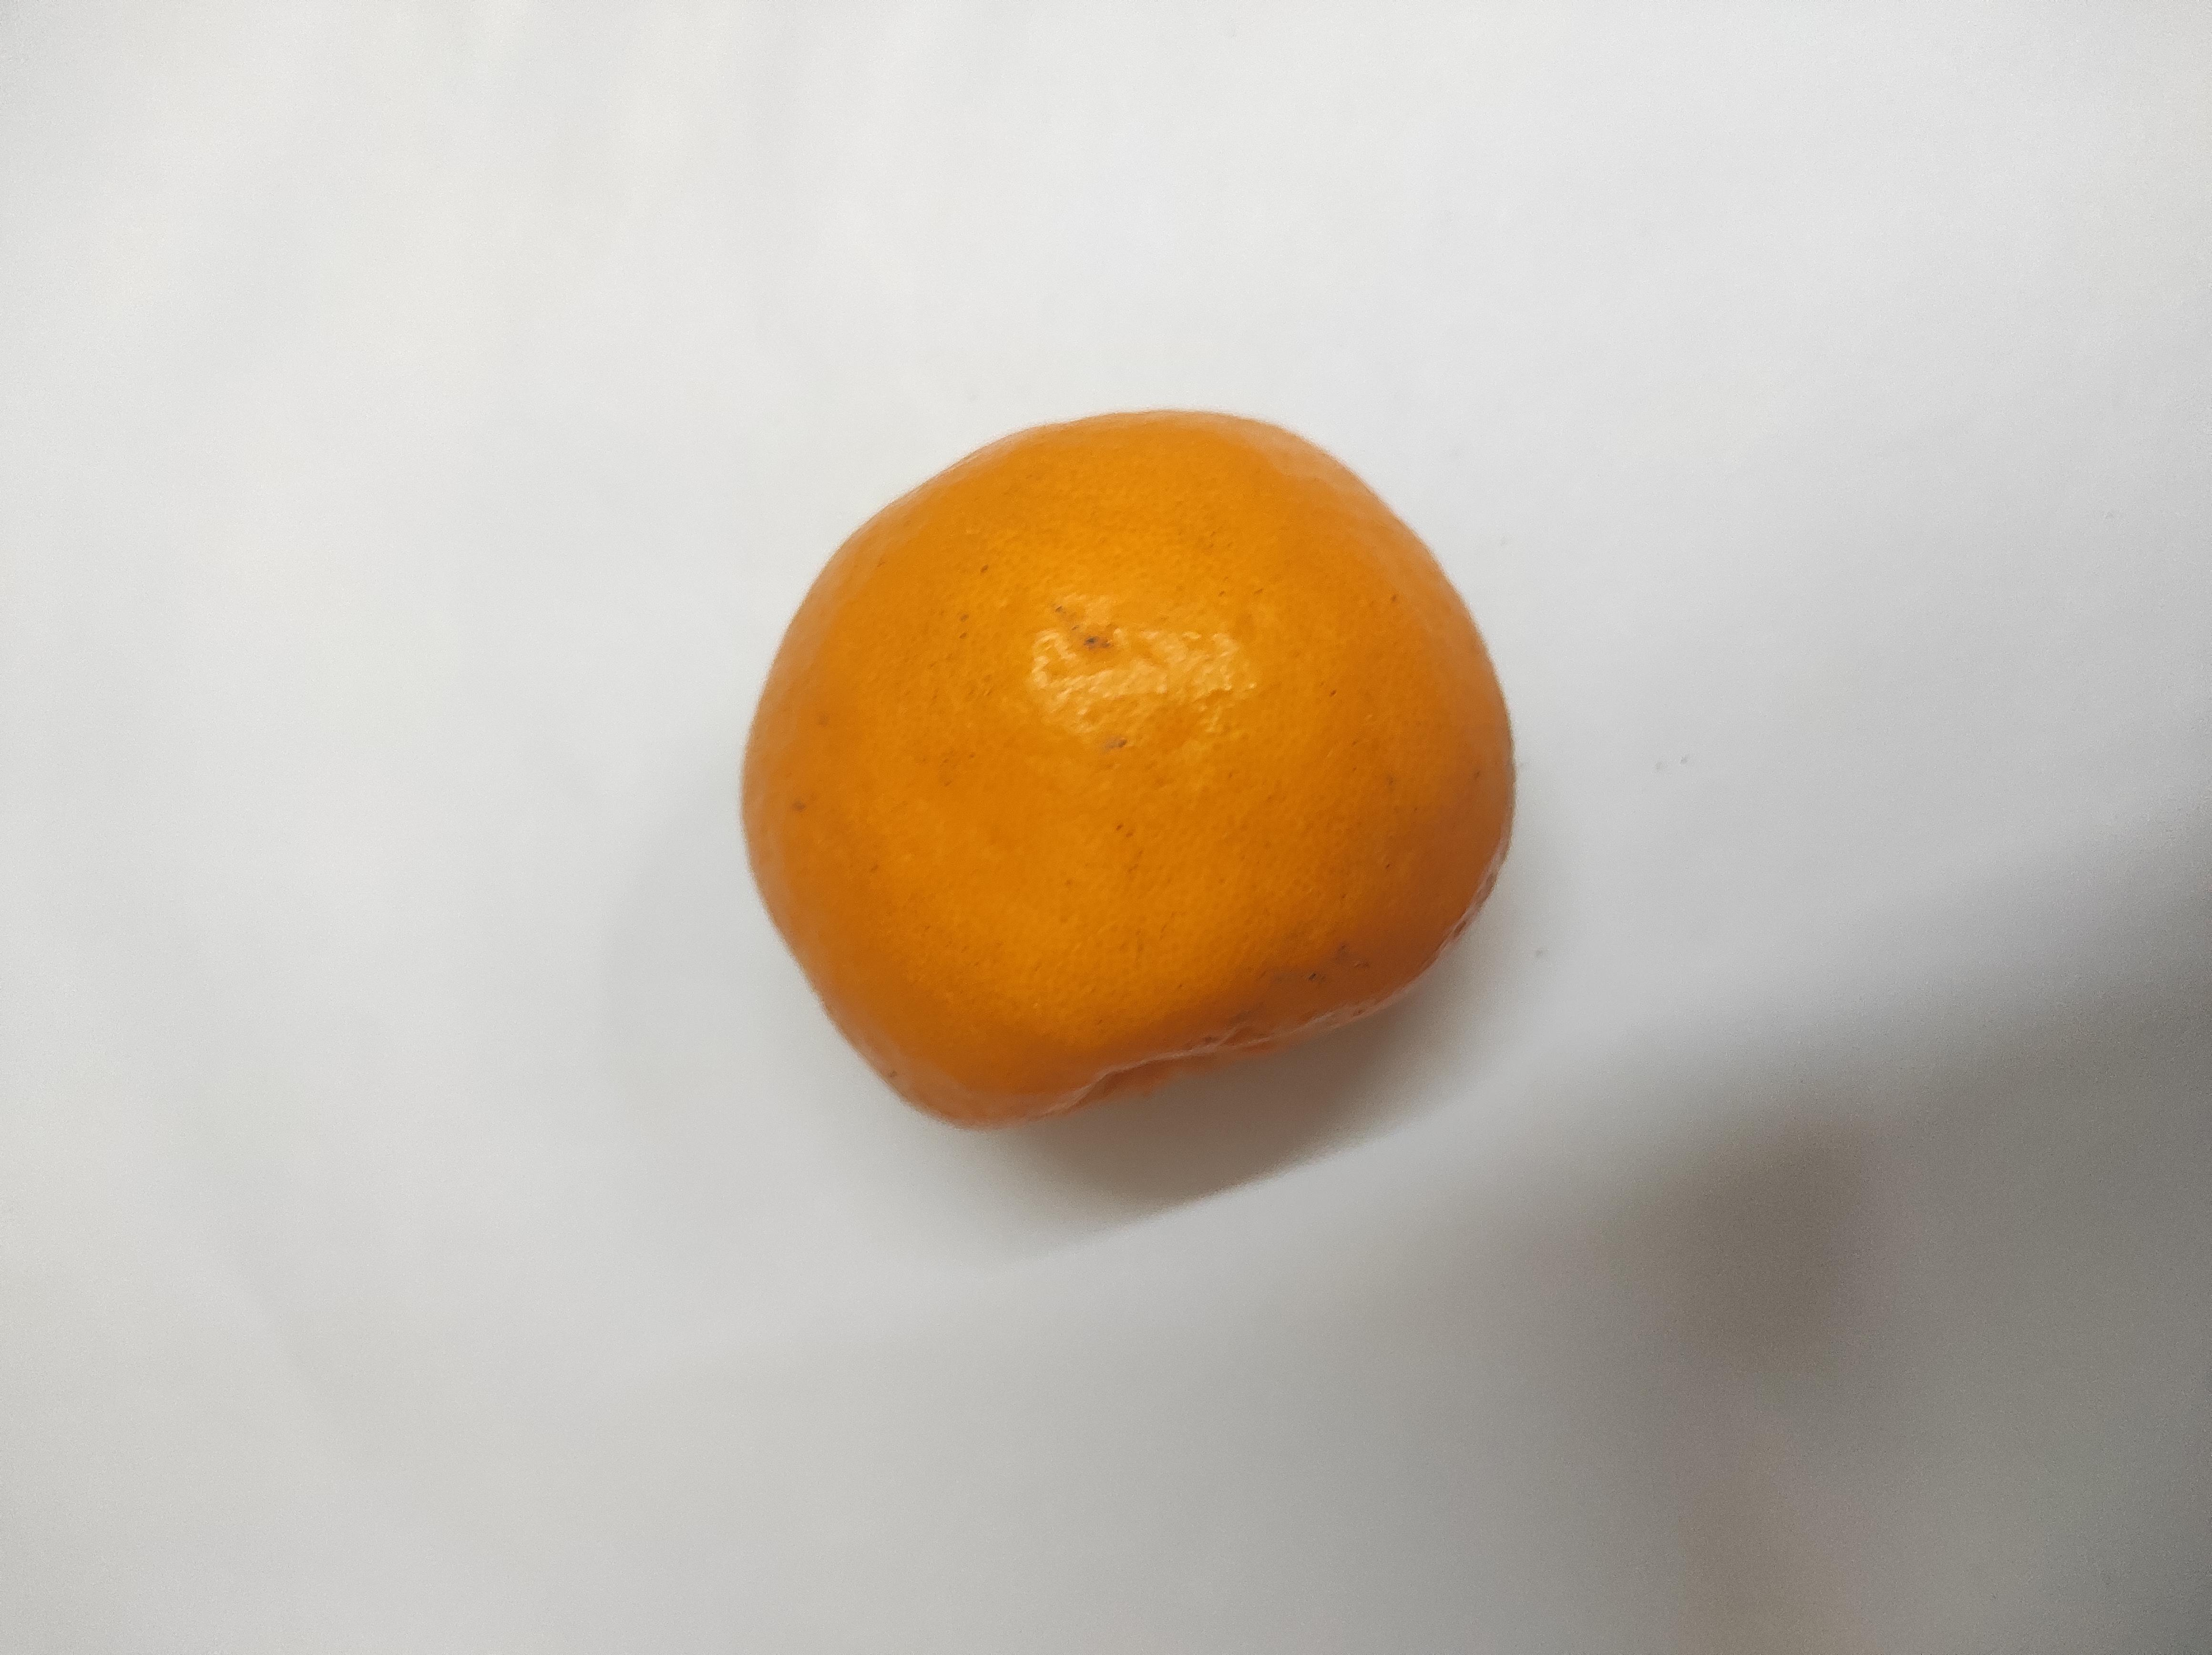Unripe: (753, 415, 1506, 1135)
